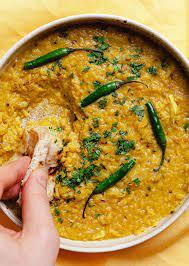Dhal Curry: (37, 30, 181, 185)
